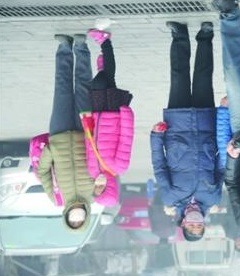person: (150, 20, 220, 241), (36, 31, 95, 228), (78, 29, 135, 209)
